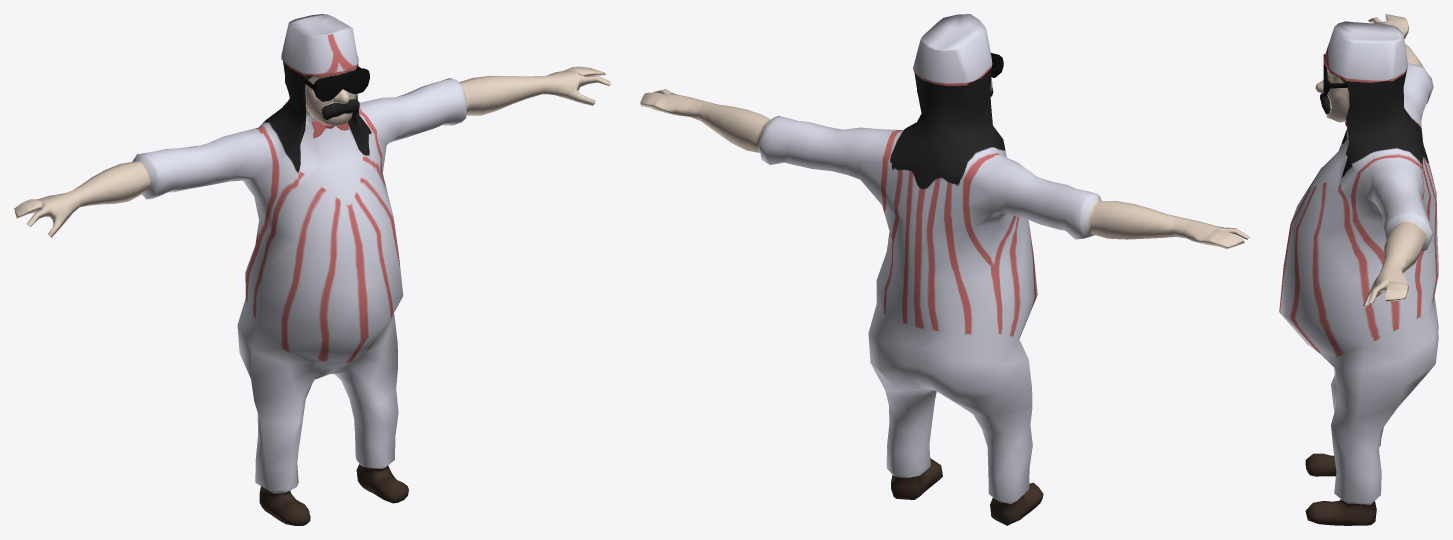
File: GlasseSmall.fbx
3 renders of one model, left to right at view 1: azimuth 30°, elevation 25°; view 2: azimuth 150°, elevation 25°; view 3: azimuth 270°, elevation 25°, orthographic. The views are drawn at different scales.
Visible parts, largest first — view 1: Glasse_retopo; view 2: Glasse_retopo; view 3: Glasse_retopo.
Boxes of the visible parts, left/top/right/bottom form: Glasse_retopo: left=14, top=14, right=611, bottom=525; Glasse_retopo: left=640, top=14, right=1250, bottom=525; Glasse_retopo: left=1279, top=14, right=1438, bottom=525.
Size of the model in its own units: 0.7005 by 0.1651 by 0.5404.
Materials: 1 (1 with a texture image).
